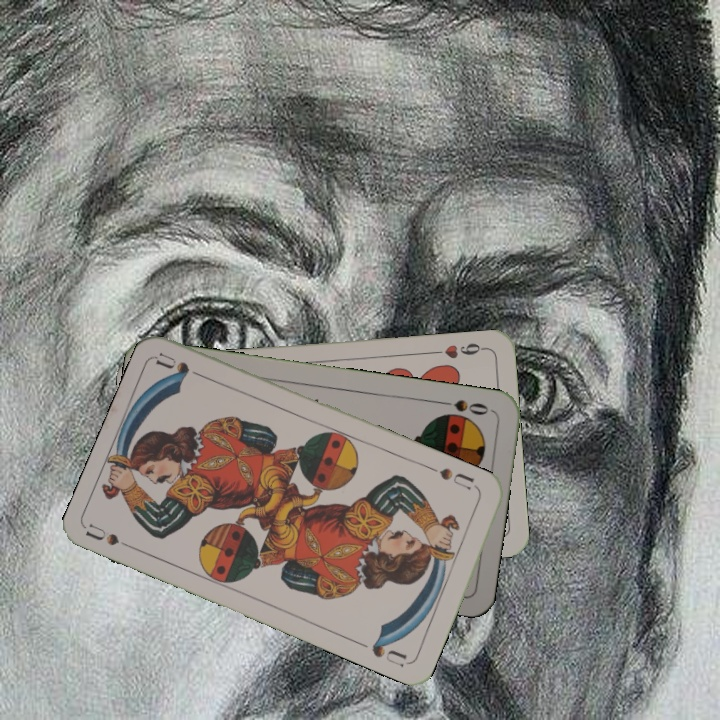H9: (430, 339, 489, 361)
SO: (436, 395, 491, 418)
SU: (83, 520, 141, 554), (435, 463, 477, 492)
